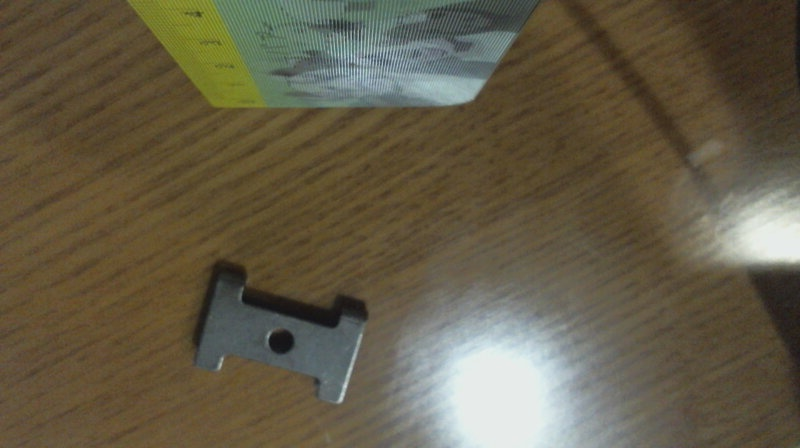O002: (188, 260, 369, 405)
